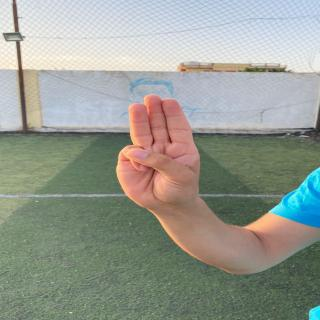THA: (110, 87, 212, 215)
